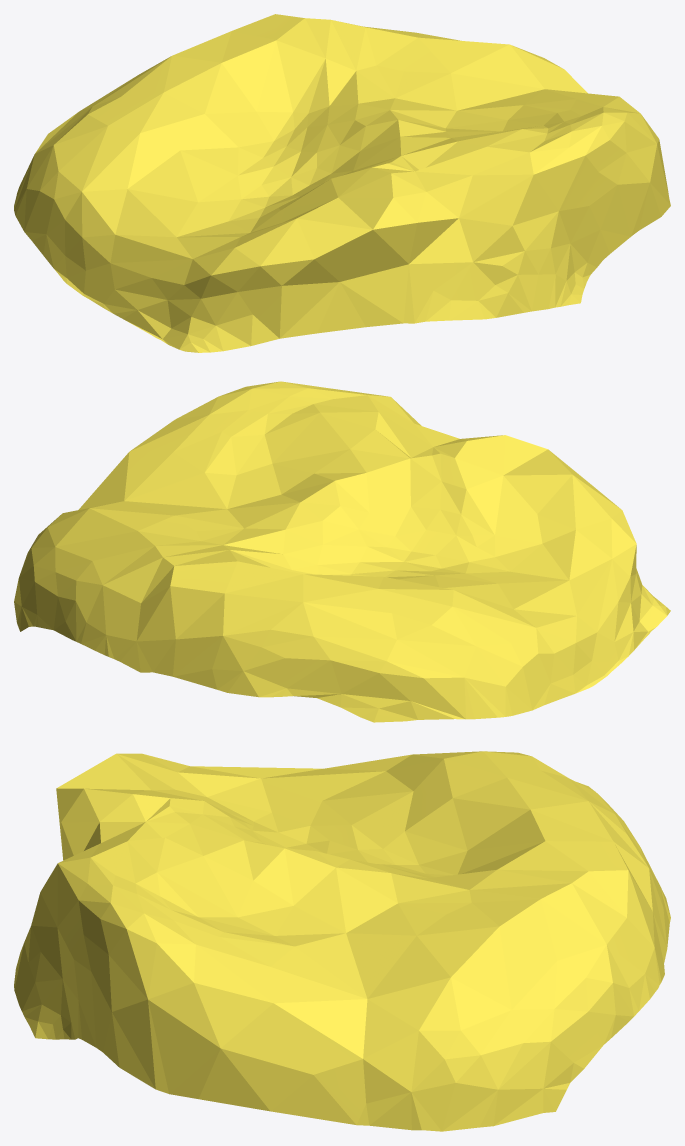
File: ground_020.fbx
3 views of the same model, one above another, from view 1: azimuth 30°, elevation 25°; view 2: azimuth 150°, elevation 25°; view 3: azimuth 270°, elevation 25° (orthographic). The views are drawn at different scales.
Visible parts, largest first — view 1: ground.020; view 2: ground.020; view 3: ground.020.
Part boxes in pixels (x1,y1,x2,y2): ground.020: (14, 14, 670, 352); ground.020: (14, 381, 670, 722); ground.020: (14, 751, 670, 1131).
Size of the model in its own units: 2544 by 623 by 2226.
Materials: 1 (1 with a texture image).
